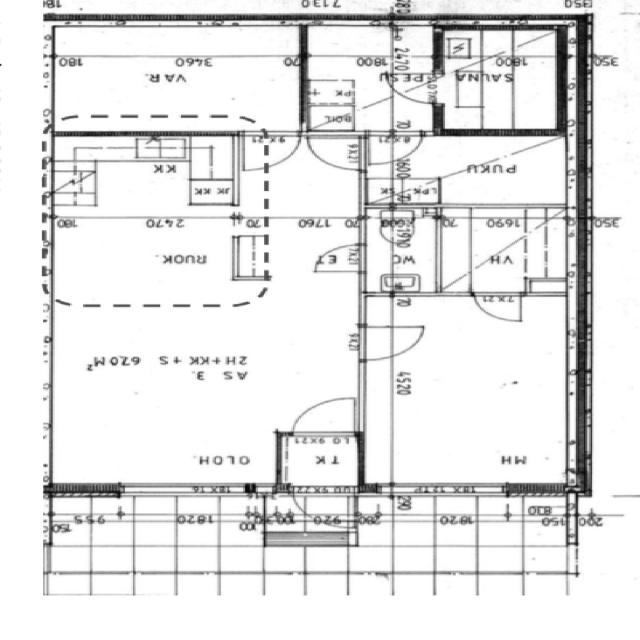door: (287, 393, 362, 439), (358, 322, 431, 362), (303, 130, 367, 172), (286, 483, 356, 521), (470, 288, 526, 325), (310, 242, 368, 274), (257, 130, 304, 168), (386, 73, 440, 106), (386, 130, 426, 160)
window: (111, 478, 252, 502), (383, 480, 518, 502)
zone: (46, 217, 360, 486), (362, 295, 580, 495), (46, 18, 304, 134), (48, 136, 240, 218), (366, 133, 573, 208), (304, 21, 434, 133), (438, 28, 562, 134), (432, 206, 577, 292), (370, 210, 441, 294)
